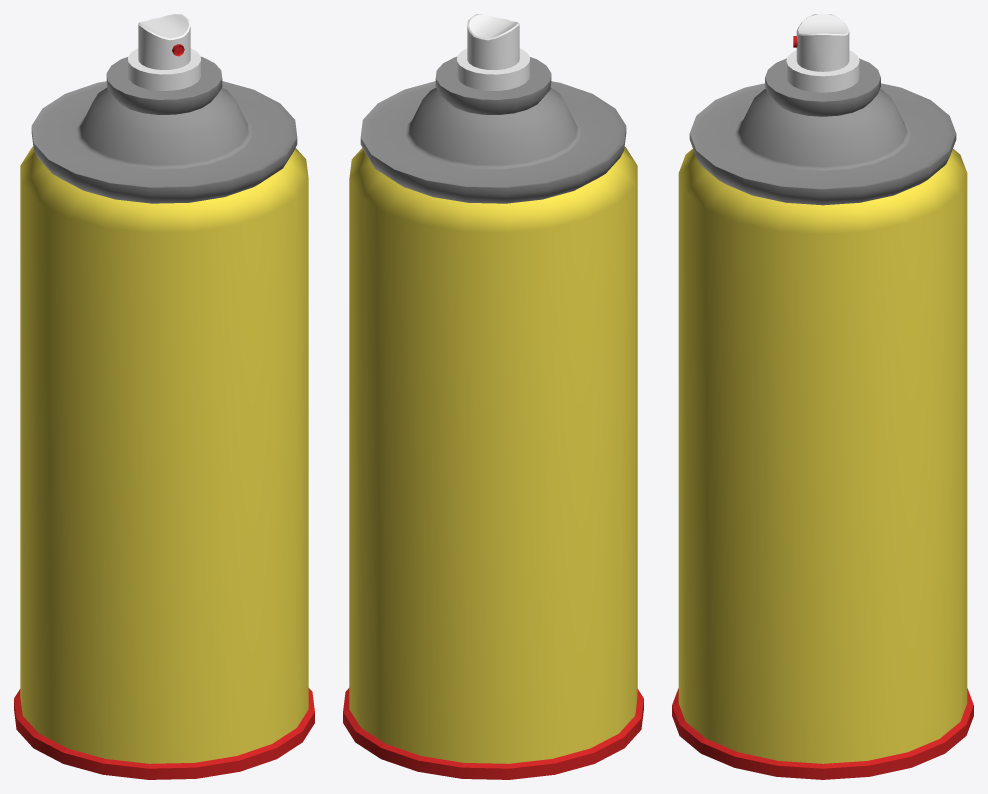
Rendered from PaintCan.fbx.
3 renders of one model, left to right at view 1: azimuth 30°, elevation 25°; view 2: azimuth 150°, elevation 25°; view 3: azimuth 270°, elevation 25°, orthographic.
Parts seen in each view (by area): view 1: PaintCan; view 2: PaintCan; view 3: PaintCan.
Part boxes in pixels (x1,y1,x2,y2): PaintCan: (14,14,314,779); PaintCan: (343,14,643,779); PaintCan: (672,14,973,779).
Size of the model in its own units: 2.09 by 5.29 by 2.09.
